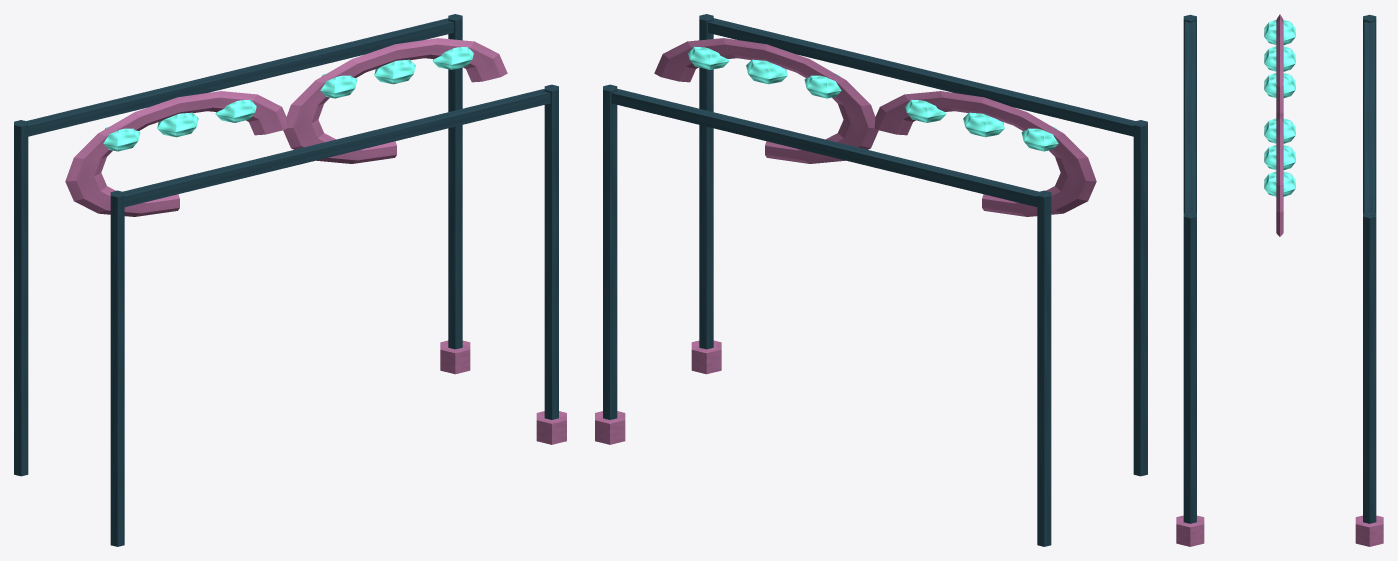
Rendered from atlas100-s061-a08.lod1.glb.
The picture shows the model from 3 angles, left to right: view 1: azimuth 30°, elevation 25°; view 2: azimuth 150°, elevation 25°; view 3: azimuth 270°, elevation 25°; orthographic projection. The views are drawn at different scales.
Visible parts, largest first — view 1: atlas100-s061-a08:part-009, atlas100-s061-a08:part-008, atlas100-s061-a08:part-010, atlas100-s061-a08:part-014, atlas100-s061-a08:part-002, atlas100-s061-a08:part-000, atlas100-s061-a08:part-006, atlas100-s061-a08:part-004, atlas100-s061-a08:part-005, atlas100-s061-a08:part-007, atlas100-s061-a08:part-016, atlas100-s061-a08:part-012 (+2 smaller); view 2: atlas100-s061-a08:part-008, atlas100-s061-a08:part-009, atlas100-s061-a08:part-010, atlas100-s061-a08:part-014, atlas100-s061-a08:part-000, atlas100-s061-a08:part-002, atlas100-s061-a08:part-004, atlas100-s061-a08:part-006, atlas100-s061-a08:part-007, atlas100-s061-a08:part-005, atlas100-s061-a08:part-016, atlas100-s061-a08:part-012 (+2 smaller); view 3: atlas100-s061-a08:part-004, atlas100-s061-a08:part-006, atlas100-s061-a08:part-008, atlas100-s061-a08:part-009, atlas100-s061-a08:part-014, atlas100-s061-a08:part-000, atlas100-s061-a08:part-002, atlas100-s061-a08:part-010, atlas100-s061-a08:part-005, atlas100-s061-a08:part-007, atlas100-s061-a08:part-012, atlas100-s061-a08:part-013 (+4 smaller).
Boxes of the visible parts, x1,y1,x2,y2 form: atlas100-s061-a08:part-009: (123, 89, 550, 206); atlas100-s061-a08:part-008: (26, 18, 453, 136); atlas100-s061-a08:part-010: (65, 91, 287, 216); atlas100-s061-a08:part-014: (283, 38, 507, 163); atlas100-s061-a08:part-002: (110, 190, 124, 546); atlas100-s061-a08:part-000: (14, 120, 28, 476); atlas100-s061-a08:part-006: (544, 84, 558, 419); atlas100-s061-a08:part-004: (448, 14, 462, 349); atlas100-s061-a08:part-005: (440, 340, 470, 374); atlas100-s061-a08:part-007: (536, 411, 566, 444); atlas100-s061-a08:part-016: (374, 59, 415, 84); atlas100-s061-a08:part-012: (157, 112, 198, 137); atlas100-s061-a08:part-008: (611, 89, 1038, 206); atlas100-s061-a08:part-009: (708, 18, 1135, 136); atlas100-s061-a08:part-010: (874, 91, 1096, 216); atlas100-s061-a08:part-014: (654, 38, 878, 163); atlas100-s061-a08:part-000: (1037, 190, 1051, 546); atlas100-s061-a08:part-002: (1133, 120, 1147, 476); atlas100-s061-a08:part-004: (603, 84, 617, 419); atlas100-s061-a08:part-006: (699, 14, 713, 349); atlas100-s061-a08:part-007: (691, 340, 721, 374); atlas100-s061-a08:part-005: (595, 411, 625, 444); atlas100-s061-a08:part-016: (746, 59, 787, 84); atlas100-s061-a08:part-012: (963, 112, 1004, 137); atlas100-s061-a08:part-004: (1363, 212, 1376, 523); atlas100-s061-a08:part-006: (1183, 212, 1196, 523); atlas100-s061-a08:part-008: (1364, 21, 1374, 212); atlas100-s061-a08:part-009: (1185, 21, 1195, 212); atlas100-s061-a08:part-014: (1276, 113, 1283, 236); atlas100-s061-a08:part-000: (1363, 14, 1376, 213); atlas100-s061-a08:part-002: (1183, 14, 1196, 213); atlas100-s061-a08:part-010: (1276, 14, 1283, 117); atlas100-s061-a08:part-005: (1355, 515, 1383, 546); atlas100-s061-a08:part-007: (1176, 515, 1204, 546); atlas100-s061-a08:part-012: (1264, 46, 1295, 71); atlas100-s061-a08:part-013: (1264, 73, 1295, 97).
Size of the model in its own units: 5.46 by 4.4 by 2.31.
3 materials, 3 textured.
